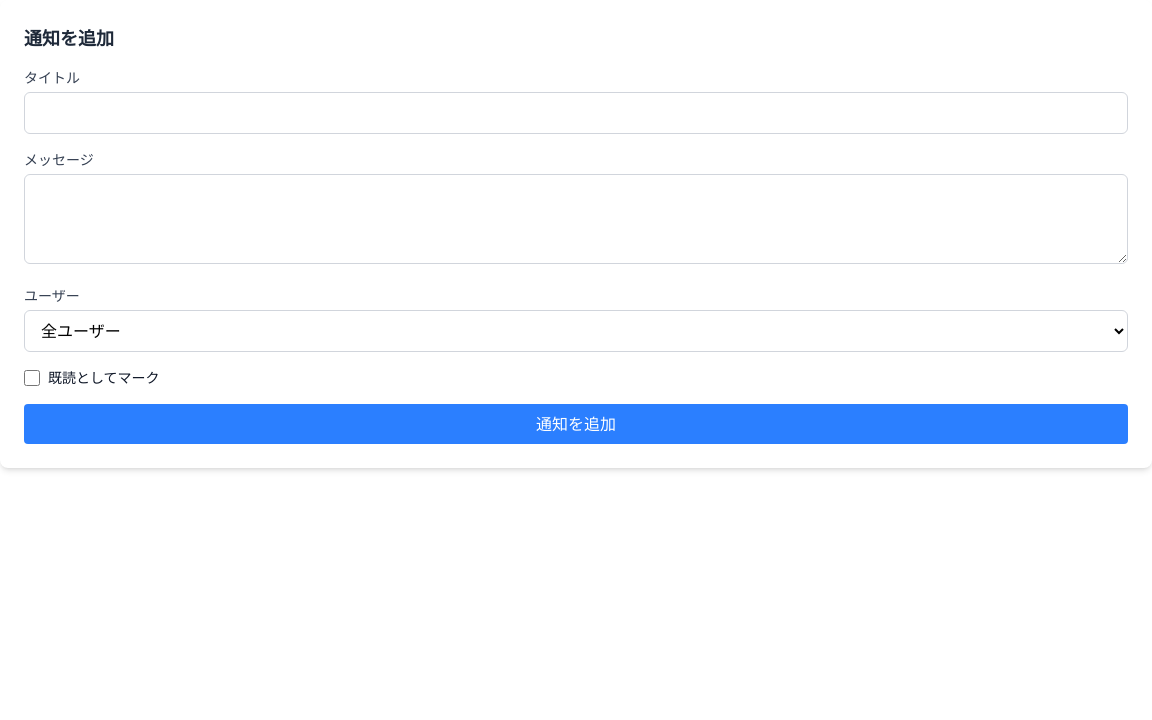
Scenario: NotificationForm Component › should handle non-Error objects in catch block
# Fill the form
Type "Test Title" into the field labelled "タイトル".
click(576, 113); type("Test Title")  # box 24,92 -> 1128,134
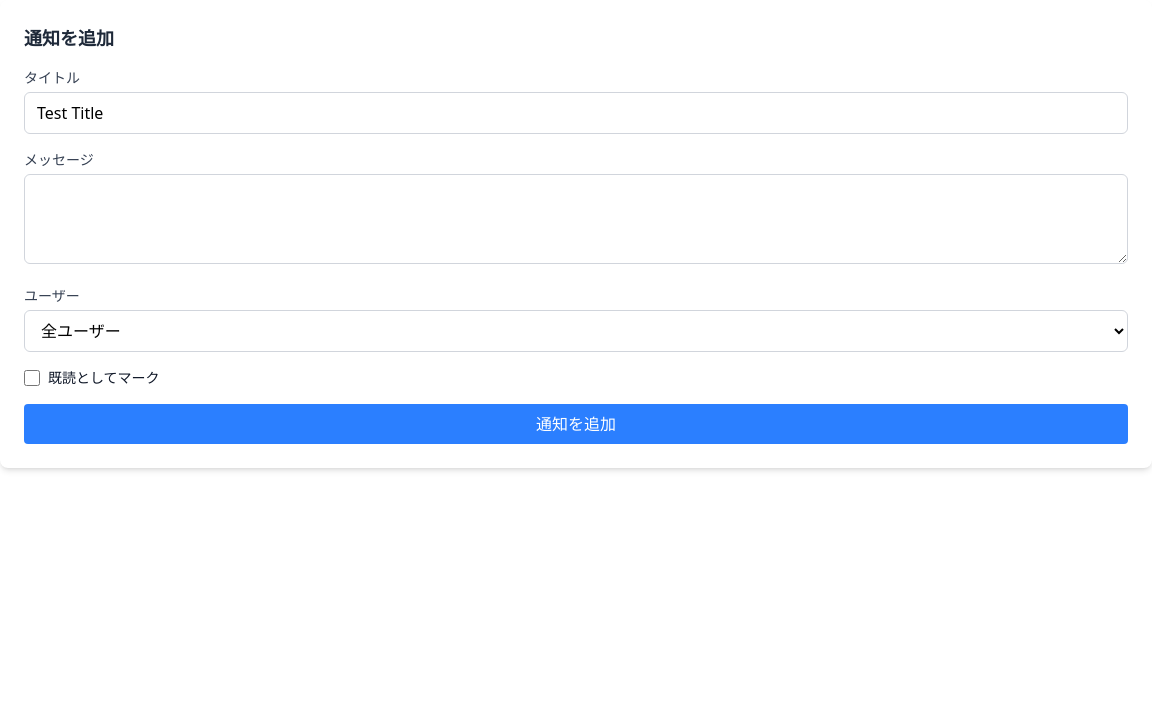
Type "Test Message" into the text box labelled "メッセージ".
click(576, 219); type("Test Message")  # box 24,174 -> 1128,264
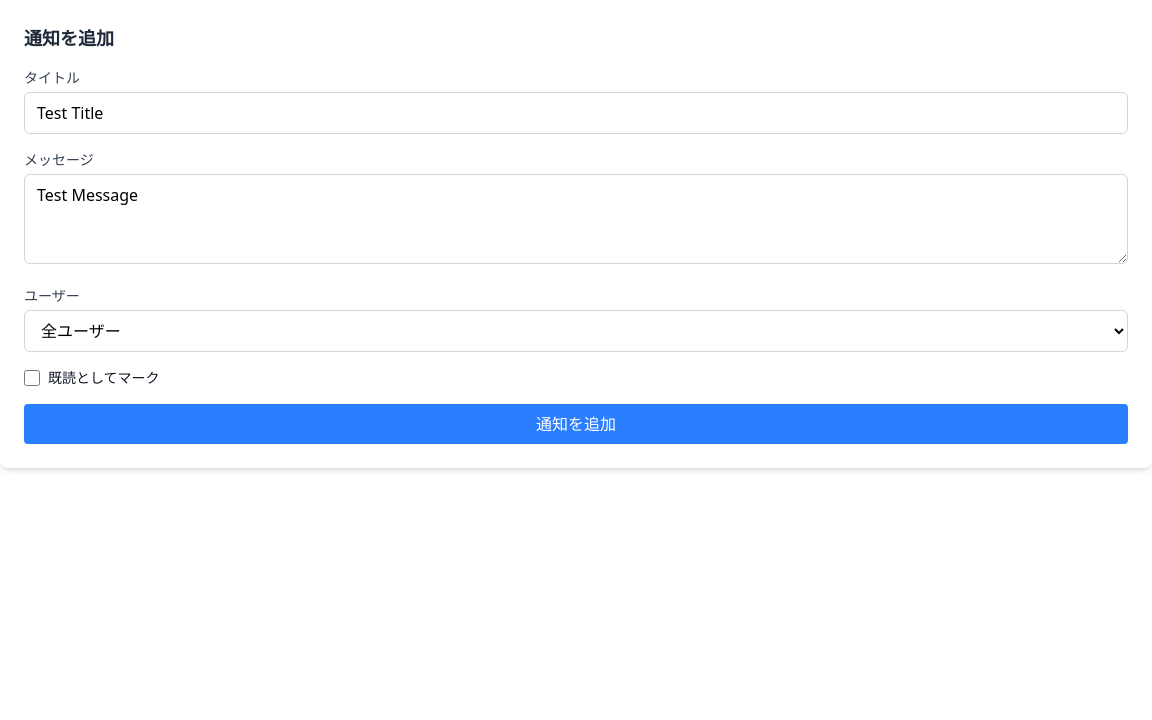
# Submit the form
Click the button "通知を追加".
click(576, 424)  # box 24,404 -> 1128,444
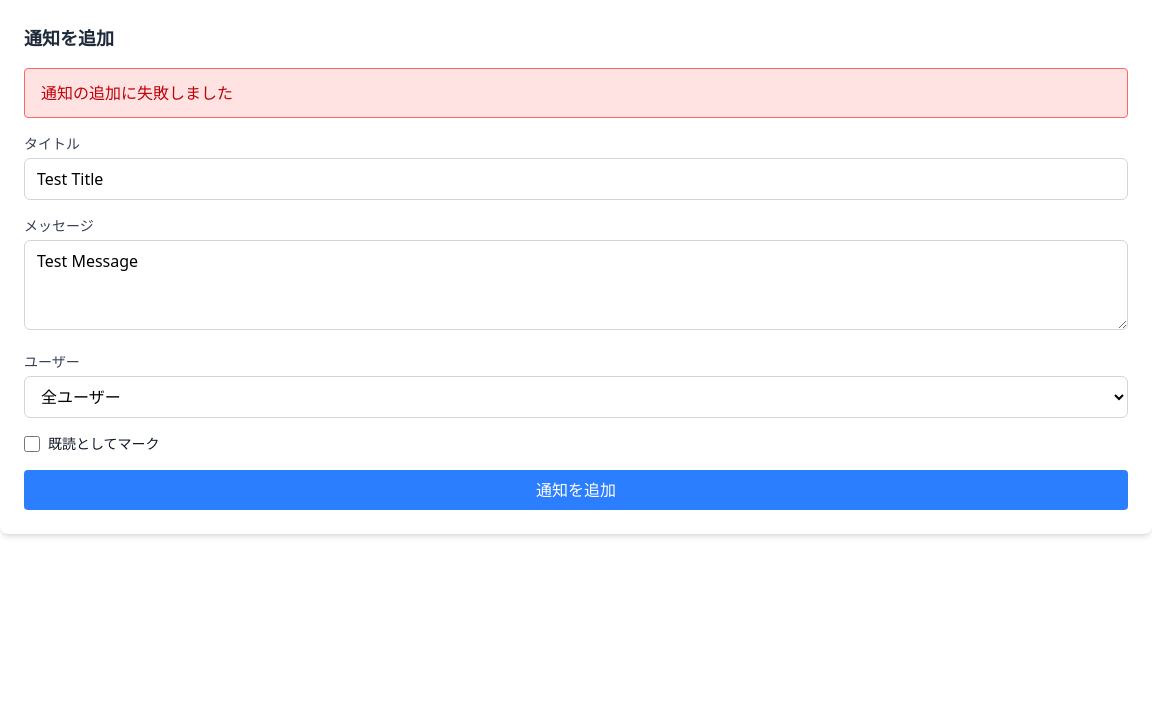
Expected: the text "通知の追加に失敗しました" is shown, 24,68 -> 1128,118
